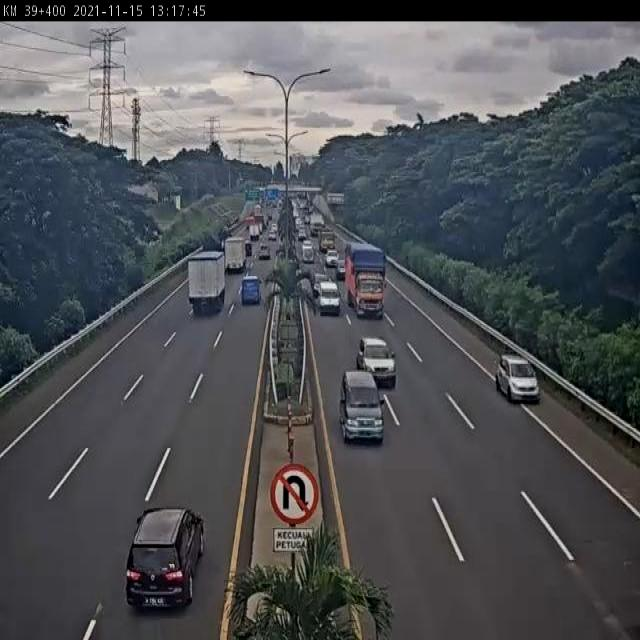Car: (125, 504, 205, 615), (338, 369, 386, 443), (496, 352, 541, 402), (356, 336, 396, 388), (325, 249, 339, 268), (336, 259, 346, 280), (258, 243, 270, 260)
Truck: (344, 243, 386, 318), (187, 251, 226, 314), (225, 237, 247, 270)
Van: (317, 280, 341, 317), (241, 276, 261, 305)
